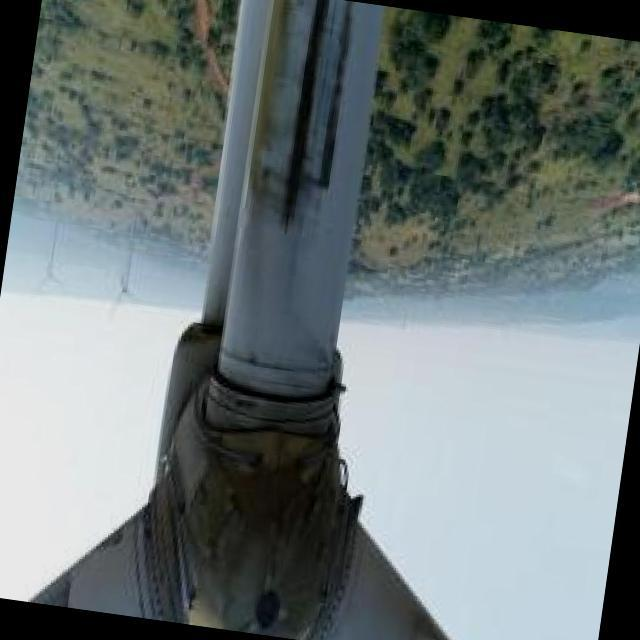Dirt: (236, 0, 342, 295)
Oil LEAKAGE: (281, 0, 355, 229)
